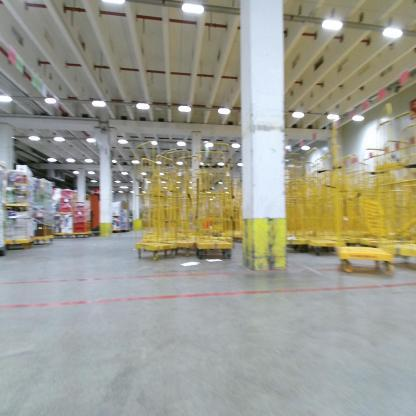pallets: (55, 231, 92, 238)
